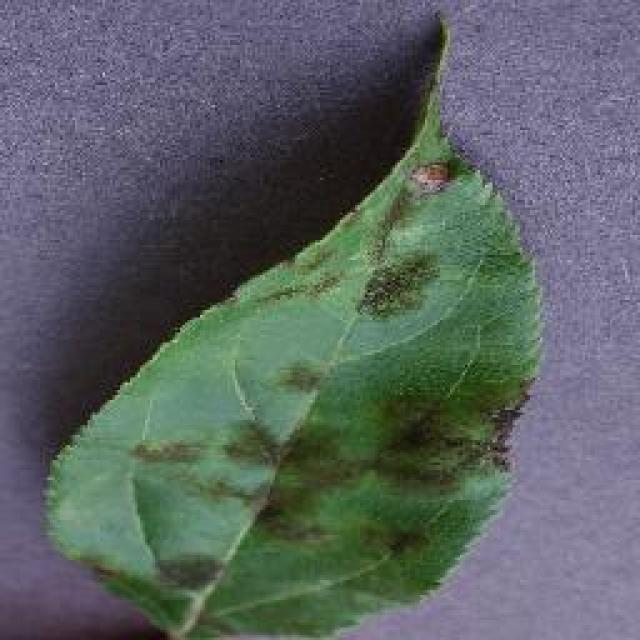apple scab disease: (38, 10, 548, 638)
